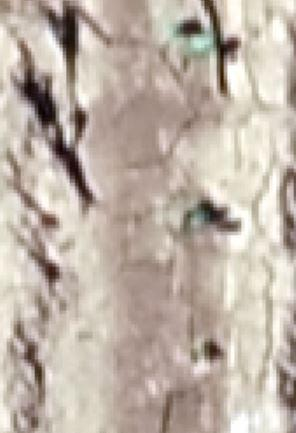cotton: (168, 22, 212, 54), (182, 202, 208, 224)
